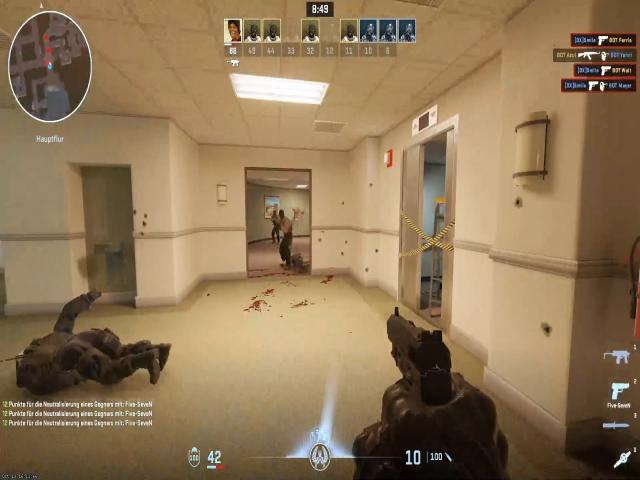Dead: (17, 312, 160, 398)
T: (280, 203, 291, 241), (272, 207, 280, 245)
T-Head: (278, 207, 287, 221), (271, 209, 279, 218)
